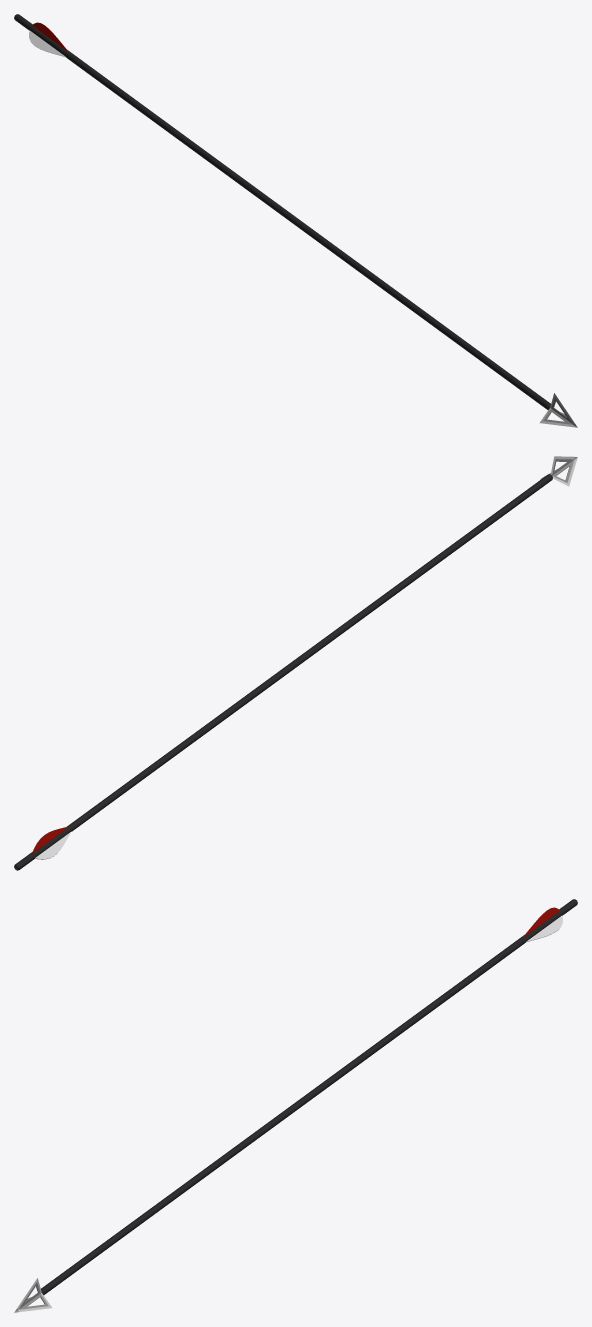
File: arrow.dae
The picture shows the model from 3 angles, top to bottom: view 1: azimuth 30°, elevation 25°; view 2: azimuth 150°, elevation 25°; view 3: azimuth 330°, elevation 25°; orthographic projection.
Visible parts, largest first — view 1: Circle; view 2: Circle; view 3: Circle.
Part boxes in pixels (x1,y1,x2,y2): Circle: (14, 14, 577, 427); Circle: (14, 456, 577, 870); Circle: (14, 899, 577, 1312).
Bounding box in the file's own units: 2.41 × 78.93 × 2.09.
